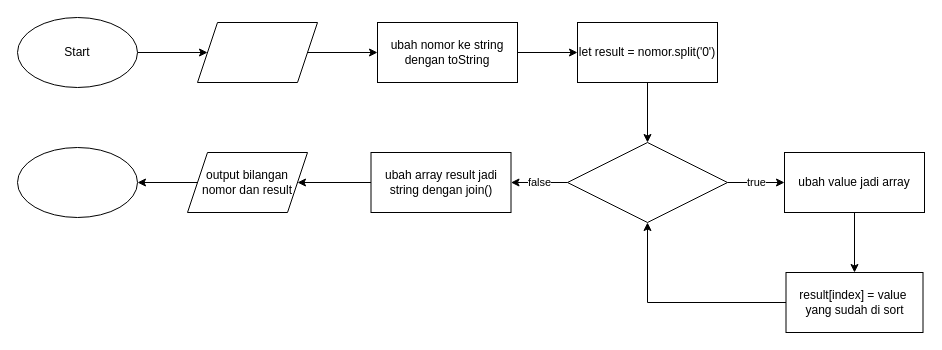
This 942x350 diagram has some shape labels left out. Each missing label, with the centre of its shape:
"End" goes at (77,182).
"Input nomor" goes at (257,52).
"result.map(value, index)" goes at (647,182).
